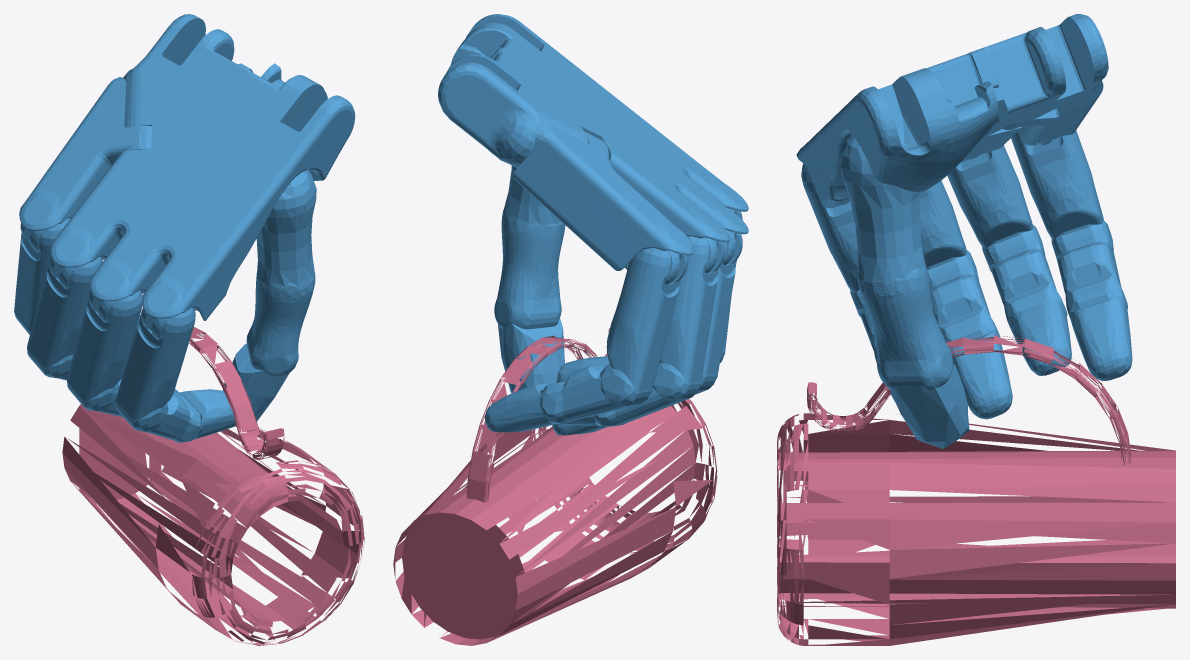
3 views of the same model, side by side, from view 1: azimuth 30°, elevation 25°; view 2: azimuth 150°, elevation 25°; view 3: azimuth 270°, elevation 25° (orthographic). The views are drawn at different scales.
Parts seen in each view (by area): view 1: 9; view 2: 9; view 3: 9.
Part boxes in pixels (x1,y1,x2,y2): 9: [14, 14, 364, 645]; 9: [393, 14, 748, 645]; 9: [777, 14, 1175, 645].
Size of the model in its own units: 0.116 by 0.2178 by 0.1242.
